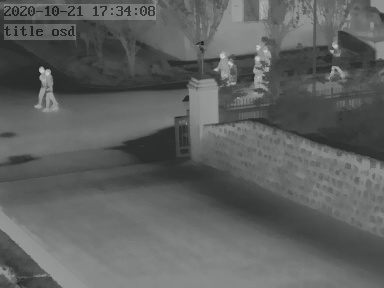person: (36, 63, 55, 111), (250, 48, 266, 89), (215, 51, 235, 82), (327, 41, 343, 75)
